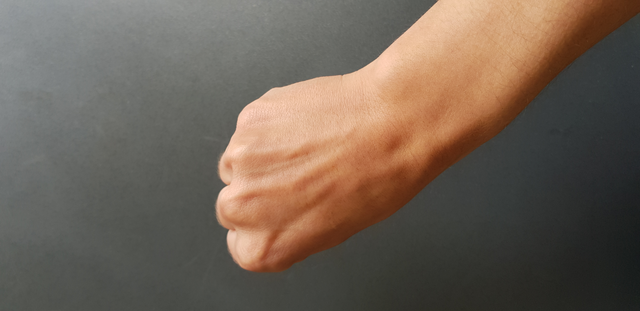Rock: (182, 69, 447, 277)
